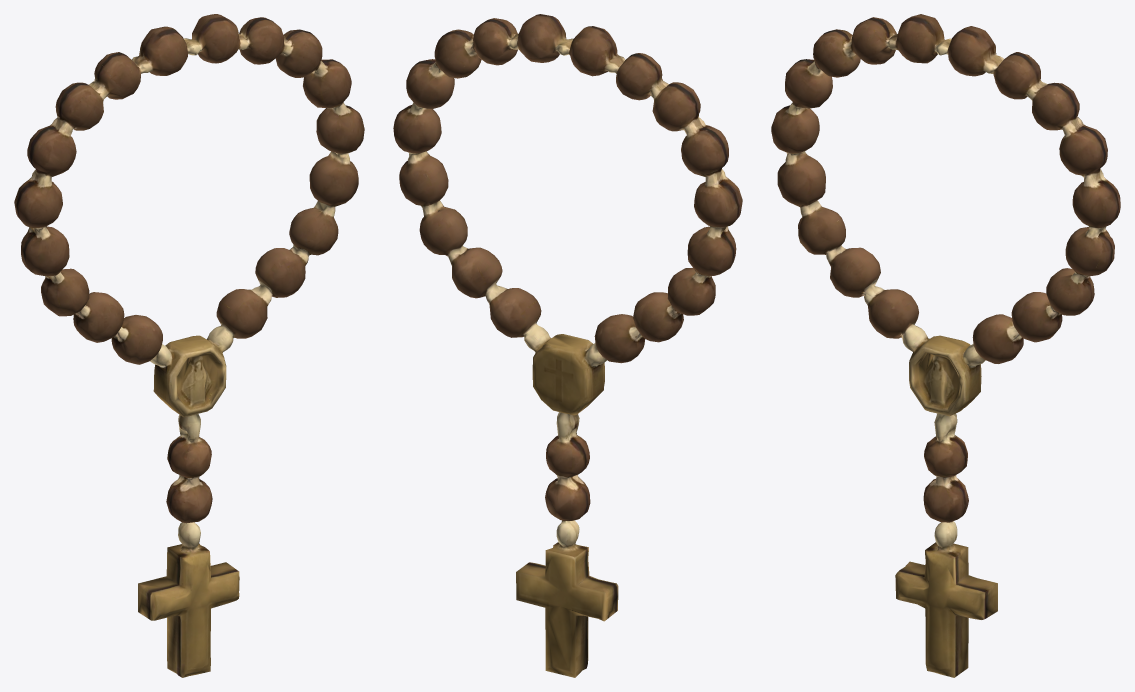
File: rosario-optimized.glb
The picture shows the model from 3 angles, left to right: view 1: azimuth 30°, elevation 25°; view 2: azimuth 150°, elevation 25°; view 3: azimuth 330°, elevation 25°; orthographic projection.
Parts seen in each view (by area): view 1: Mesh_0; view 2: Mesh_0; view 3: Mesh_0.
Part boxes in pixels (x1,y1,x2,y2): Mesh_0: (14, 14, 364, 677); Mesh_0: (393, 14, 742, 677); Mesh_0: (771, 14, 1120, 677).
Bounding box in the file's own units: 0.0666 × 0.12 × 0.00842.
Materials: 1 (1 with a texture image).
